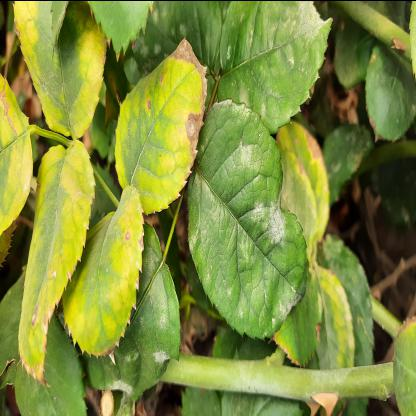black-spot: (15, 127, 96, 384), (113, 42, 212, 219), (58, 183, 148, 365), (20, 1, 103, 121)
powdery-mildew: (182, 98, 302, 334), (74, 231, 180, 398), (210, 0, 332, 128), (124, 0, 218, 96)
